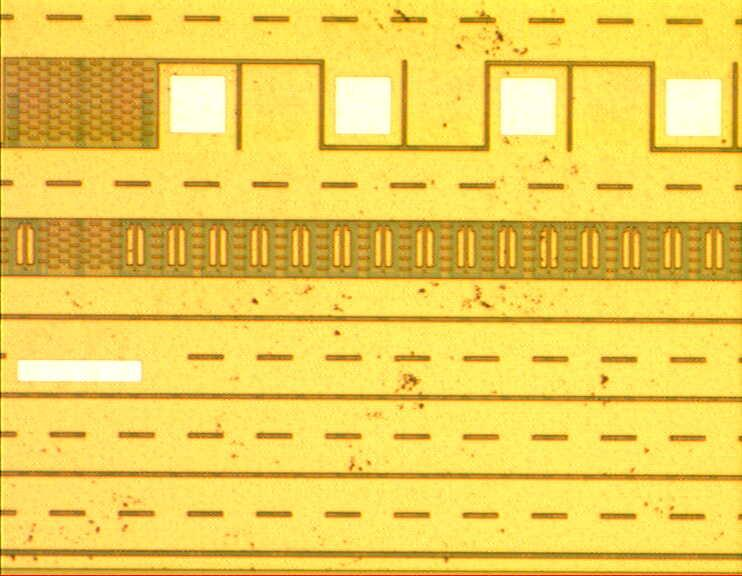PO CONTAMINATION: (2, 1, 742, 576)
